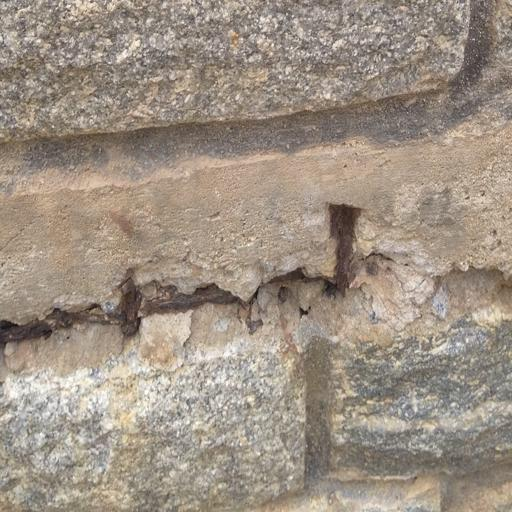spalling: (5, 107, 452, 396)
